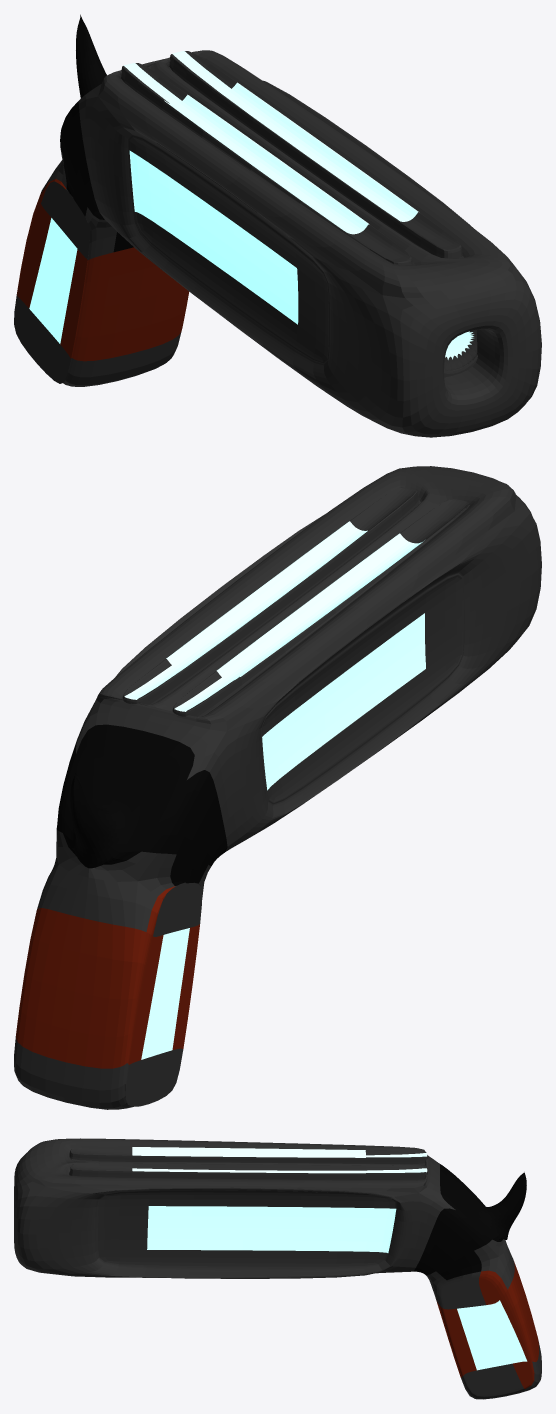
The model's file is pistol.glb.
The picture shows the model from 3 angles, top to bottom: view 1: azimuth 30°, elevation 25°; view 2: azimuth 150°, elevation 25°; view 3: azimuth 270°, elevation 25°; orthographic projection. The views are drawn at different scales.
Parts seen in each view (by area): view 1: Cube; view 2: Cube; view 3: Cube.
Part boxes in pixels (x1,y1,x2,y2): Cube: (14,14,541,437); Cube: (14,466,541,1109); Cube: (14,1138,541,1399).
Bounding box in the file's own units: 2.65 × 6.16 × 12.66.
